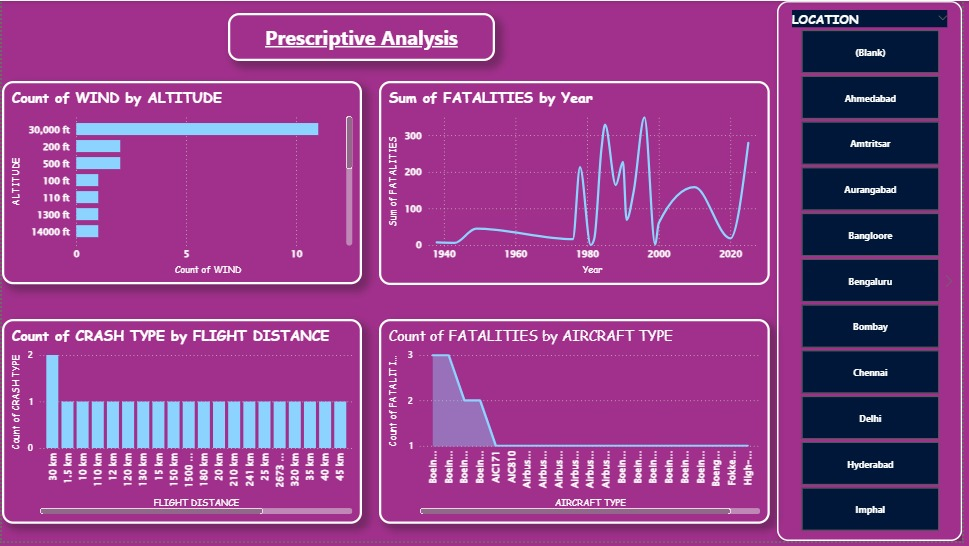

Layout of this report page (visuals, bound fields, positions):
{"tool":"powerbi","page":{"name":"Prescriptive","canvas":[1280,720],"ordinal":4},"visuals":[{"type":"textbox","box":[301.4,15.7,355.7,64.3],"z":0},{"type":"clusteredBarChart","fields":{"Y":["CountNonNull(Sheet1.WIND)"],"Category":["Sheet1.ALTITUDE"]},"box":[0,107.1,480,271.4],"z":1000},{"type":"lineChart","fields":{"Category":["Sheet1.DATE.Variation.Date Hierarchy.Year"],"Y":["Sum(Sheet1.FATALITIES)"]},"box":[502.2,107,521.4,271.7],"z":2000},{"type":"columnChart","fields":{"Y":["CountNonNull(Sheet1.CRASH TYPE)"],"Category":["Sheet1.FLIGHT DISTANCE"]},"box":[0,424,480.3,273.1],"z":3000},{"type":"areaChart","fields":{"Category":["Sheet1.AIRCRAFT TYPE"],"Y":["CountNonNull(Sheet1.FATALITIES)"]},"box":[502.2,424,521.4,273.1],"z":4000},{"type":"slicer","fields":{"Values":["Sheet1.LOCATION"]},"box":[1033,0,247,720.4],"z":5000}]}

Visuals, with their boxes in screenshot pixels (x1, y1, x2, y2), scaled from the page's 1280x720 canvas onto the 969x546 screenshot:
textbox: [228, 12, 497, 61]
clusteredBarChart - CountNonNull(Sheet1.WIND) x Sheet1.ALTITUDE: [0, 81, 363, 287]
lineChart - Sheet1.DATE.Variation.Date Hierarchy.Year x Sum(Sheet1.FATALITIES): [380, 81, 775, 287]
columnChart - CountNonNull(Sheet1.CRASH TYPE) x Sheet1.FLIGHT DISTANCE: [0, 322, 364, 529]
areaChart - Sheet1.AIRCRAFT TYPE x CountNonNull(Sheet1.FATALITIES): [380, 322, 775, 529]
slicer - Sheet1.LOCATION: [782, 0, 968, 545]
